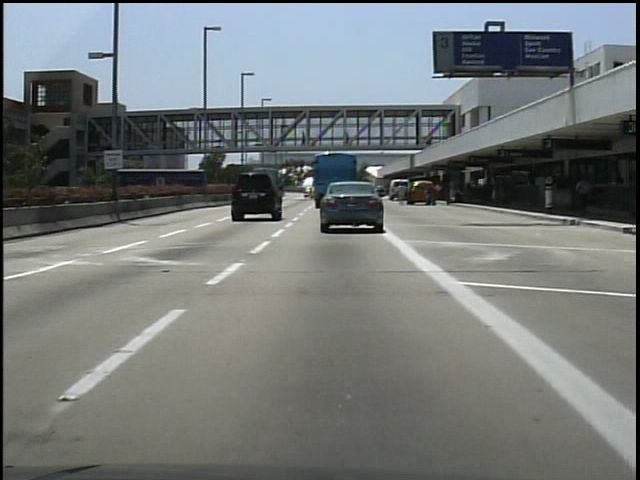car: (307, 178, 386, 235), (227, 166, 283, 223)
